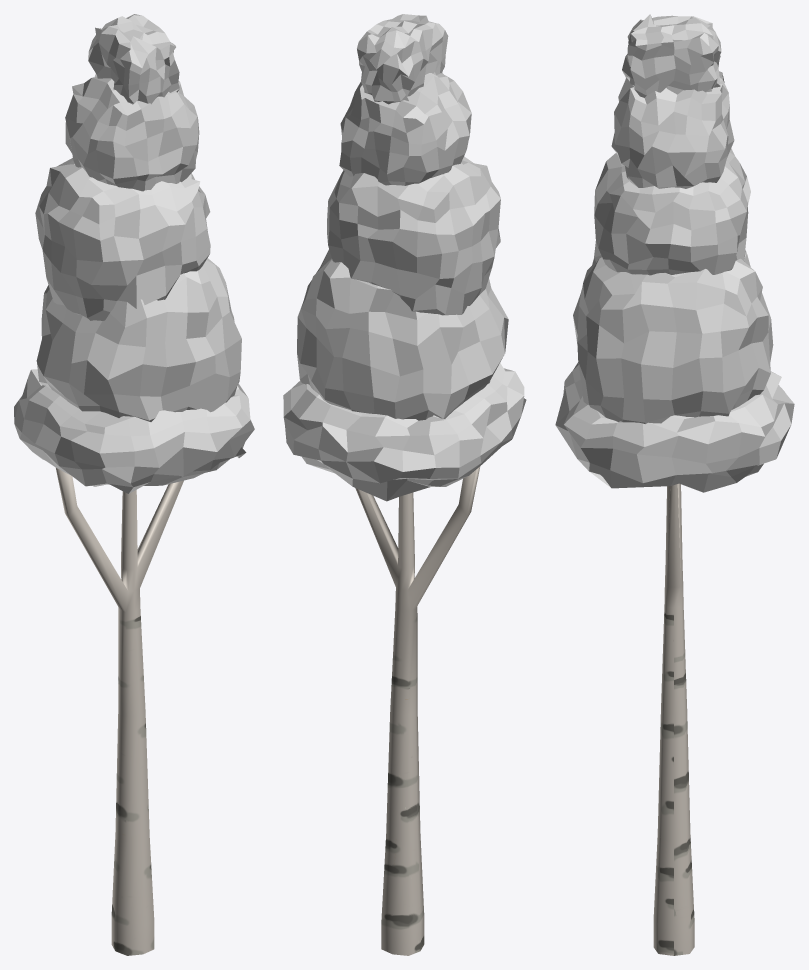
The model's file is birch2.fbx.
3 renders of one model, left to right at view 1: azimuth 30°, elevation 25°; view 2: azimuth 150°, elevation 25°; view 3: azimuth 270°, elevation 25°, orthographic.
Visible parts, largest first — view 1: Foliage, Tree; view 2: Foliage, Tree; view 3: Foliage, Tree.
Part boxes in pixels (bbox=[...]): Foliage: bbox=[14, 14, 254, 493]; Tree: bbox=[56, 468, 183, 955]; Foliage: bbox=[283, 14, 526, 501]; Tree: bbox=[355, 466, 480, 955]; Foliage: bbox=[555, 14, 794, 492]; Tree: bbox=[653, 483, 694, 955].
Bounding box in the file's own units: 1420 × 6505 × 1520.
2 materials, 1 textured.
